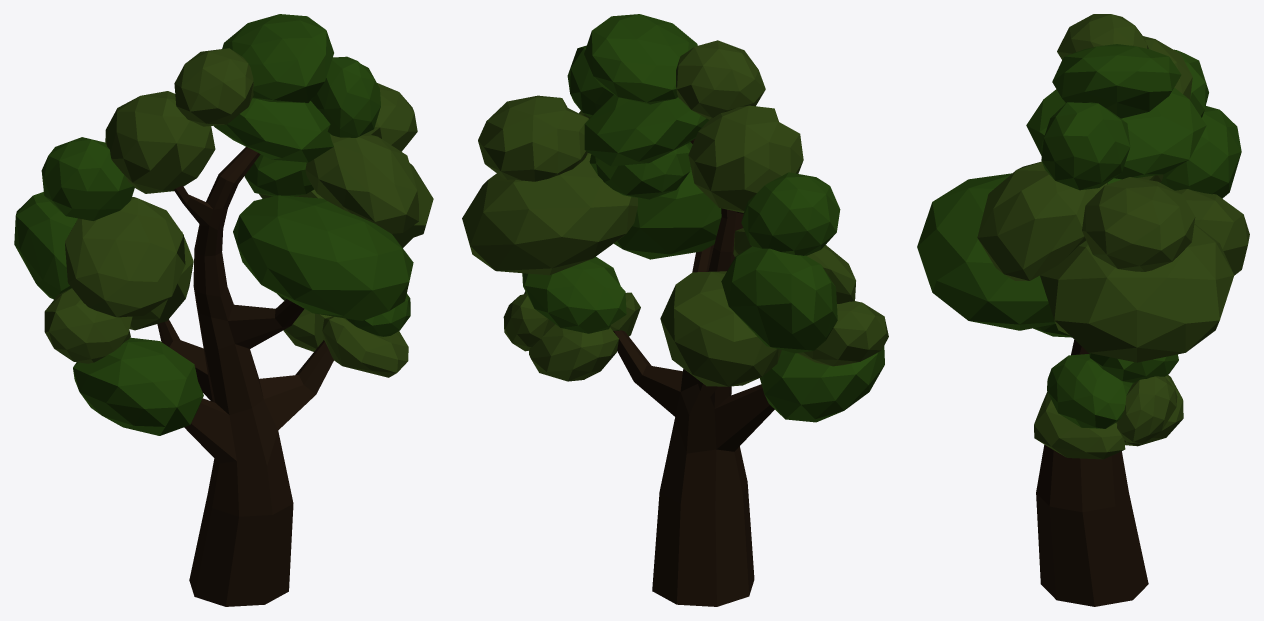
File: oakTree.glb
3 views of the same model, side by side, from view 1: azimuth 30°, elevation 25°; view 2: azimuth 150°, elevation 25°; view 3: azimuth 270°, elevation 25° (orthographic). The views are drawn at different scales.
Parts seen in each view (by area): view 1: mesh_mm1, Oak_Cylinder.004, mesh_mm2; view 2: Oak_Cylinder.004, mesh_mm1, mesh_mm2; view 3: Oak_Cylinder.004, mesh_mm1, mesh_mm2.
Boxes of the visible parts, x1,y1,x2,y2 form: mesh_mm1: (14,14,413,435); Oak_Cylinder.004: (44,48,433,377); mesh_mm2: (157,147,333,606); Oak_Cylinder.004: (462,40,888,386); mesh_mm1: (522,14,884,422); mesh_mm2: (613,139,774,606); Oak_Cylinder.004: (977,14,1249,459); mesh_mm1: (917,44,1241,428); mesh_mm2: (1036,340,1148,606).
Bounding box in the file's own units: 3.96 × 5.31 × 2.84.
